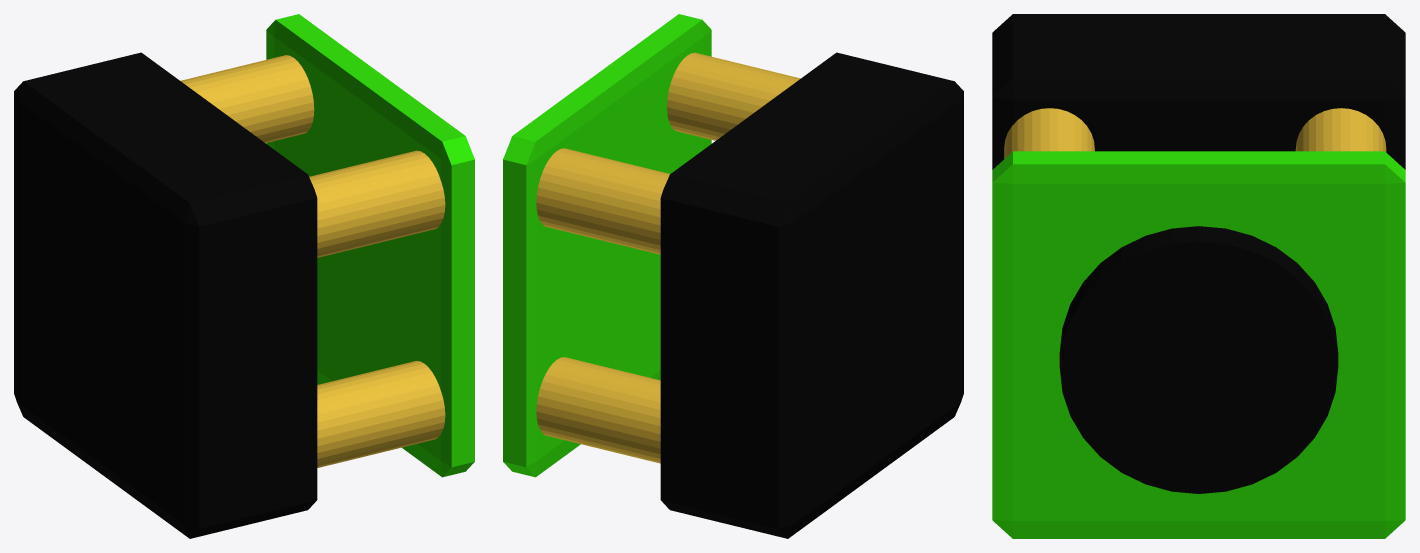
The model's file is combined_camera.fbx.
3 views of the same model, side by side, from view 1: azimuth 30°, elevation 25°; view 2: azimuth 150°, elevation 25°; view 3: azimuth 270°, elevation 25° (orthographic). The views are drawn at different scales.
Parts seen in each view (by area): view 1: Cube.002, Cube.001, 圓柱體, 圓柱體.002, 圓柱體.003; view 2: Cube.002, Cube.001, 圓柱體.003, 圓柱體.004, 圓柱體; view 3: Cube.001, 圓柱體.001, Cube.002, 圓柱體, 圓柱體.003.
Boxes of the visible parts, bbox=[...] form: Cube.002: bbox=[14, 52, 317, 538]; Cube.001: bbox=[266, 14, 474, 477]; 圓柱體: bbox=[309, 150, 445, 257]; 圓柱體.002: bbox=[317, 361, 445, 467]; 圓柱體.003: bbox=[180, 55, 314, 143]; Cube.002: bbox=[660, 52, 963, 538]; Cube.001: bbox=[503, 14, 711, 477]; 圓柱體.003: bbox=[536, 148, 669, 254]; 圓柱體.004: bbox=[536, 357, 660, 463]; 圓柱體: bbox=[667, 52, 800, 140]; Cube.001: bbox=[992, 151, 1405, 538]; 圓柱體.001: bbox=[1059, 226, 1338, 493]; Cube.002: bbox=[992, 14, 1405, 169]; 圓柱體: bbox=[1004, 108, 1094, 158]; 圓柱體.003: bbox=[1295, 108, 1386, 151].
Size of the model in its own units: 195 by 200 by 200.
